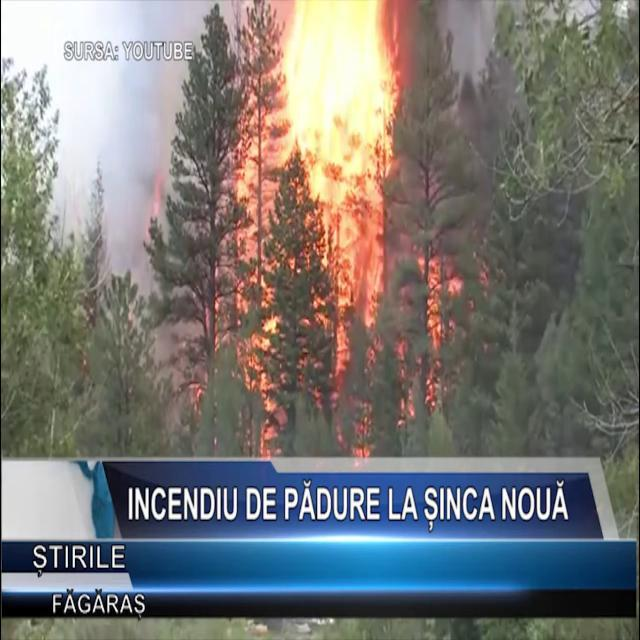Fire: (221, 0, 413, 440)
Smoke: (52, 0, 195, 271)
